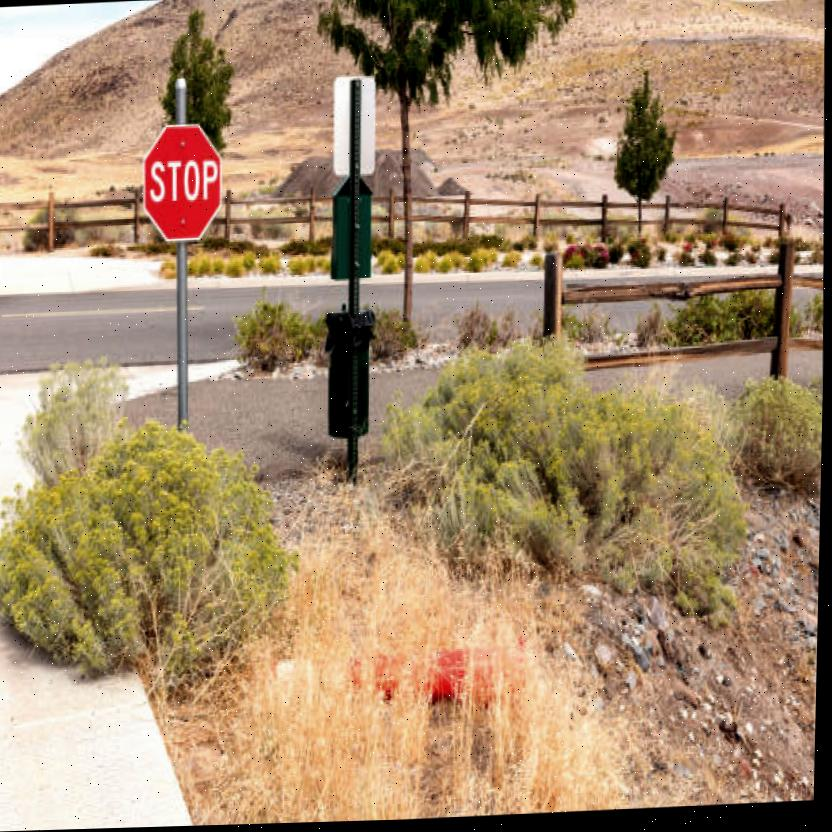Pole: (174, 242, 195, 428)
Sign: (144, 122, 225, 246)
